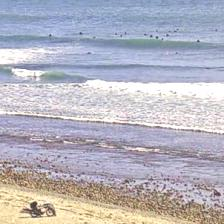surfer: (174, 52, 180, 55), (196, 39, 200, 43), (176, 28, 180, 32), (174, 30, 178, 33), (86, 52, 92, 54), (79, 31, 82, 35), (150, 35, 153, 38), (168, 30, 171, 33), (143, 34, 147, 36), (125, 31, 127, 35), (92, 36, 96, 38), (156, 36, 159, 38), (166, 34, 169, 36), (120, 34, 122, 37), (49, 34, 52, 36), (216, 29, 218, 31), (161, 38, 163, 40), (115, 33, 117, 35)
